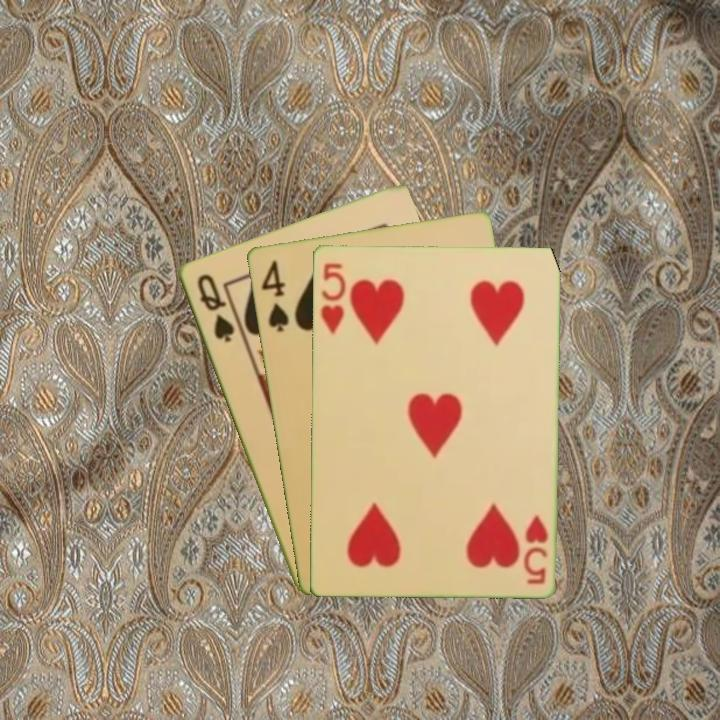4s: (257, 256, 292, 335)
5h: (519, 510, 551, 587), (317, 259, 348, 336)
Qs: (192, 270, 237, 345)
